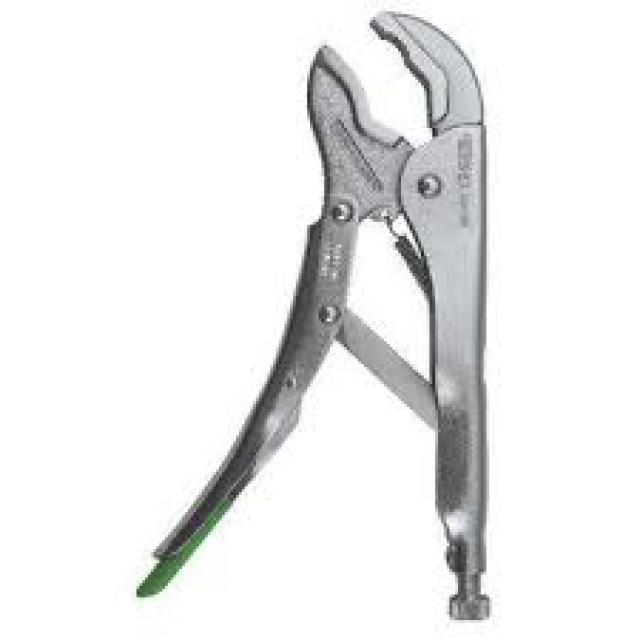pliers: (129, 3, 512, 625)
